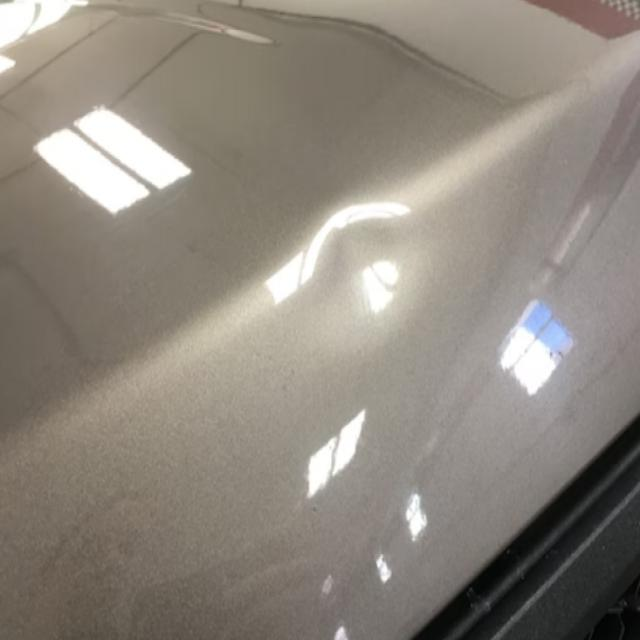dents: (300, 206, 423, 346)
